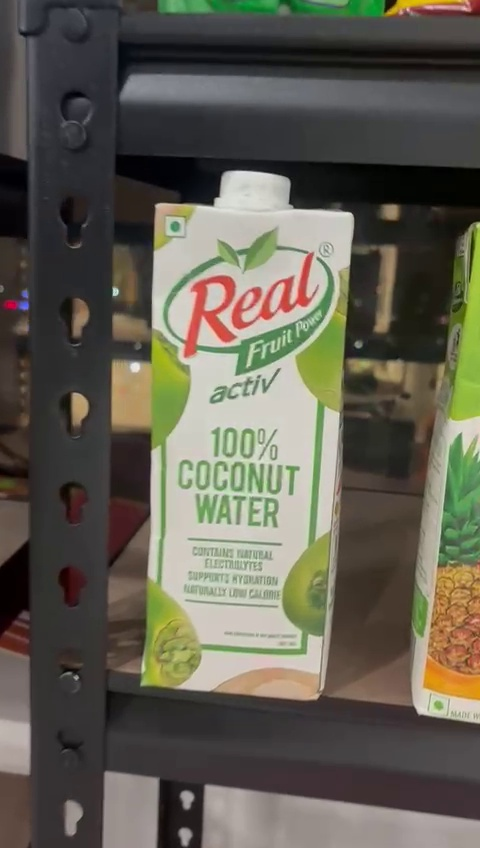Coconut water: (150, 173, 341, 695)
